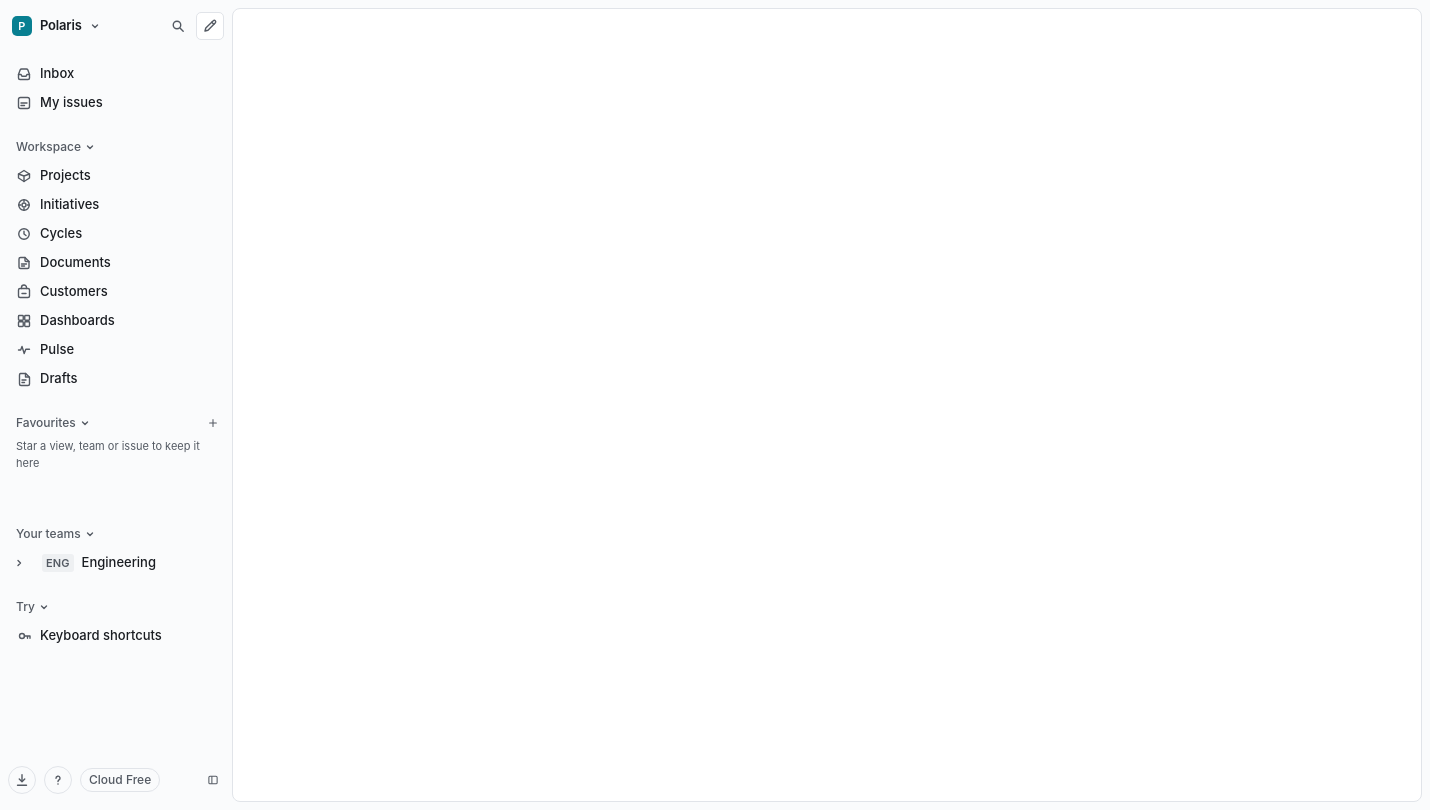
Scenario: the sections › closes a section and unmounts the rows in it
Expected: the link "ENG Engineering" is shown, [42,554,156,572]
Click the button "Your teams" at (116, 534), box [8,520,224,548]
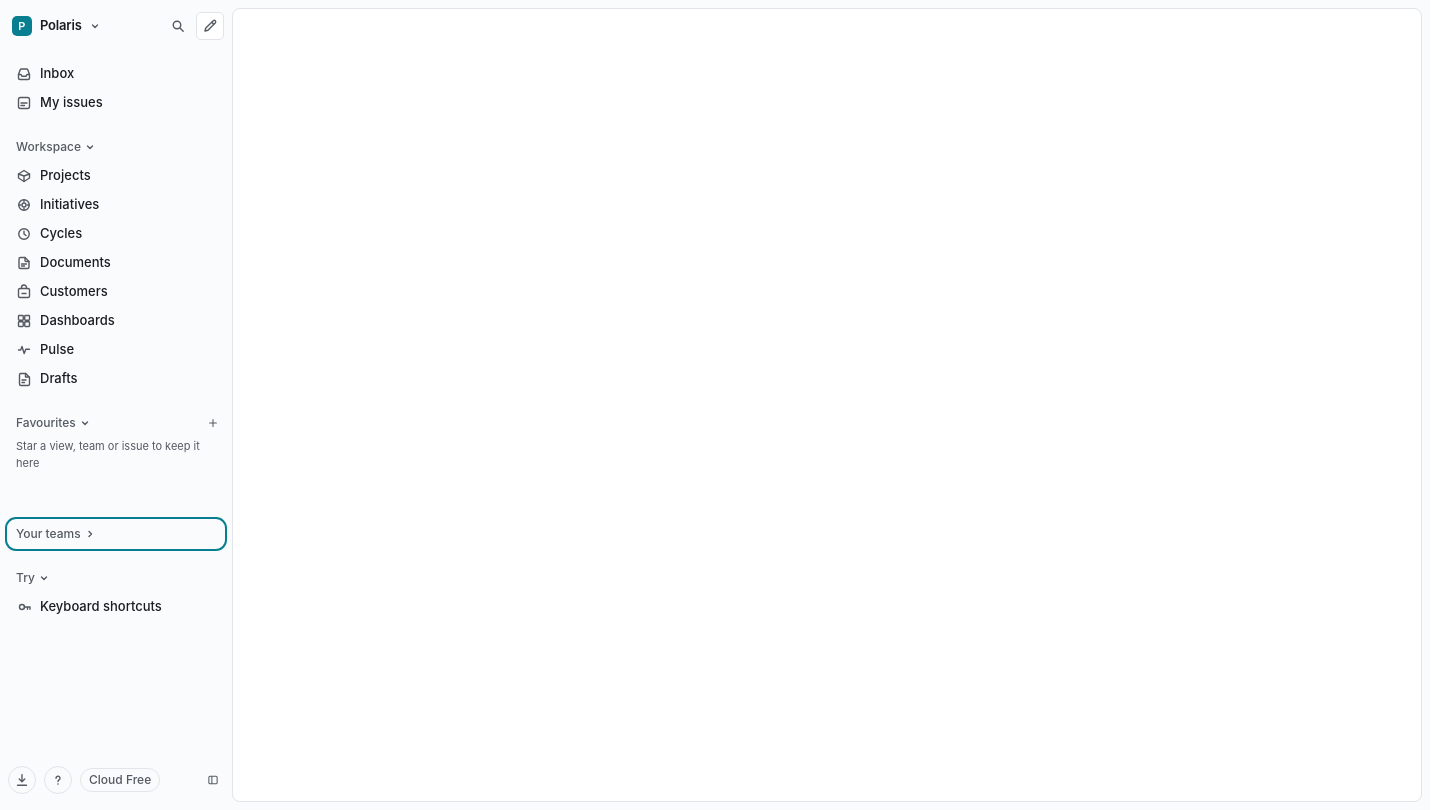
Expected: the link "Engineering" is gone
